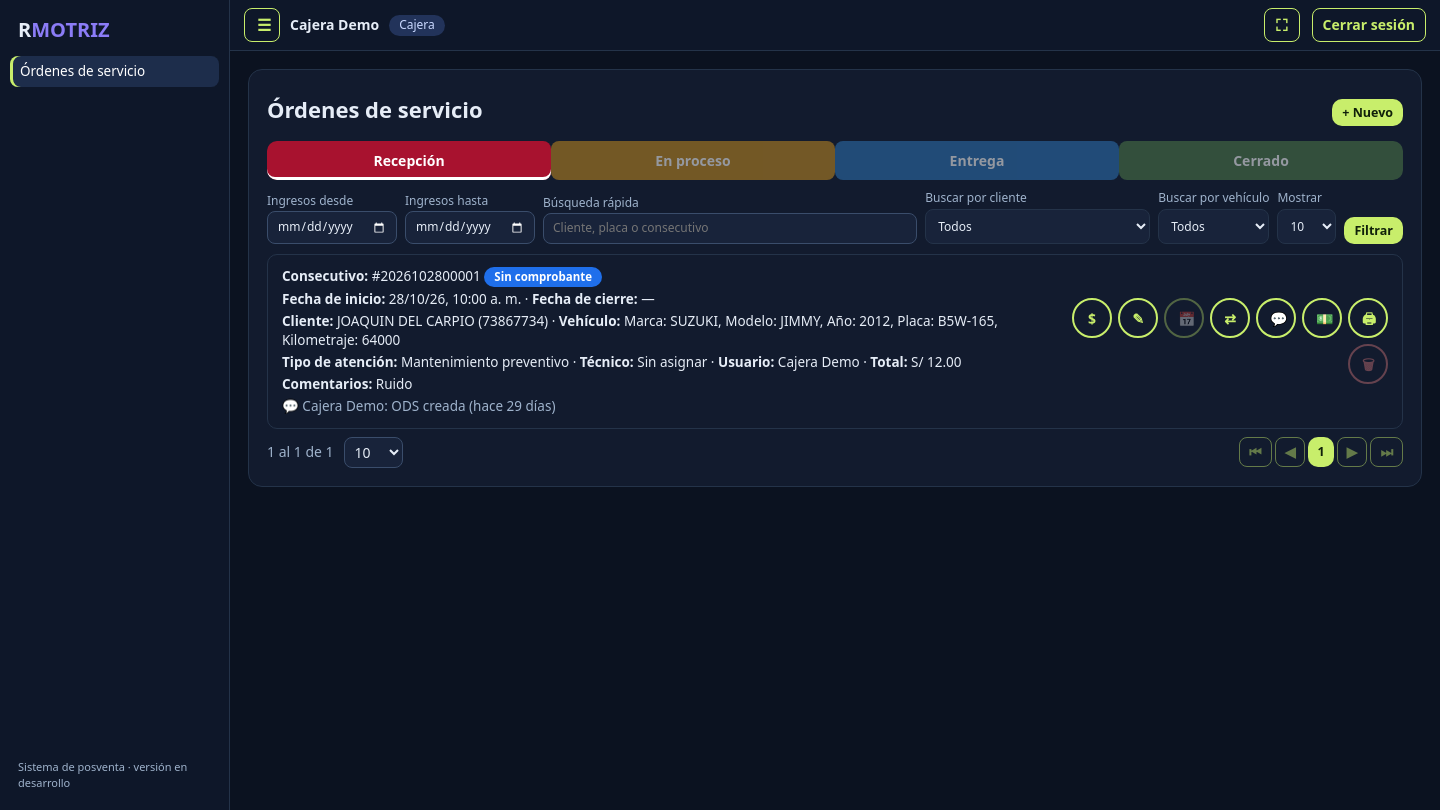
it: Estado: si la orden no cuadra con su comprobante, muestra el aviso del servidor y no cierra
The width and height of the screenshot is (1440, 810).
Click the button named "Estado de la orden": (1230, 318) [1210,298,1250,338]
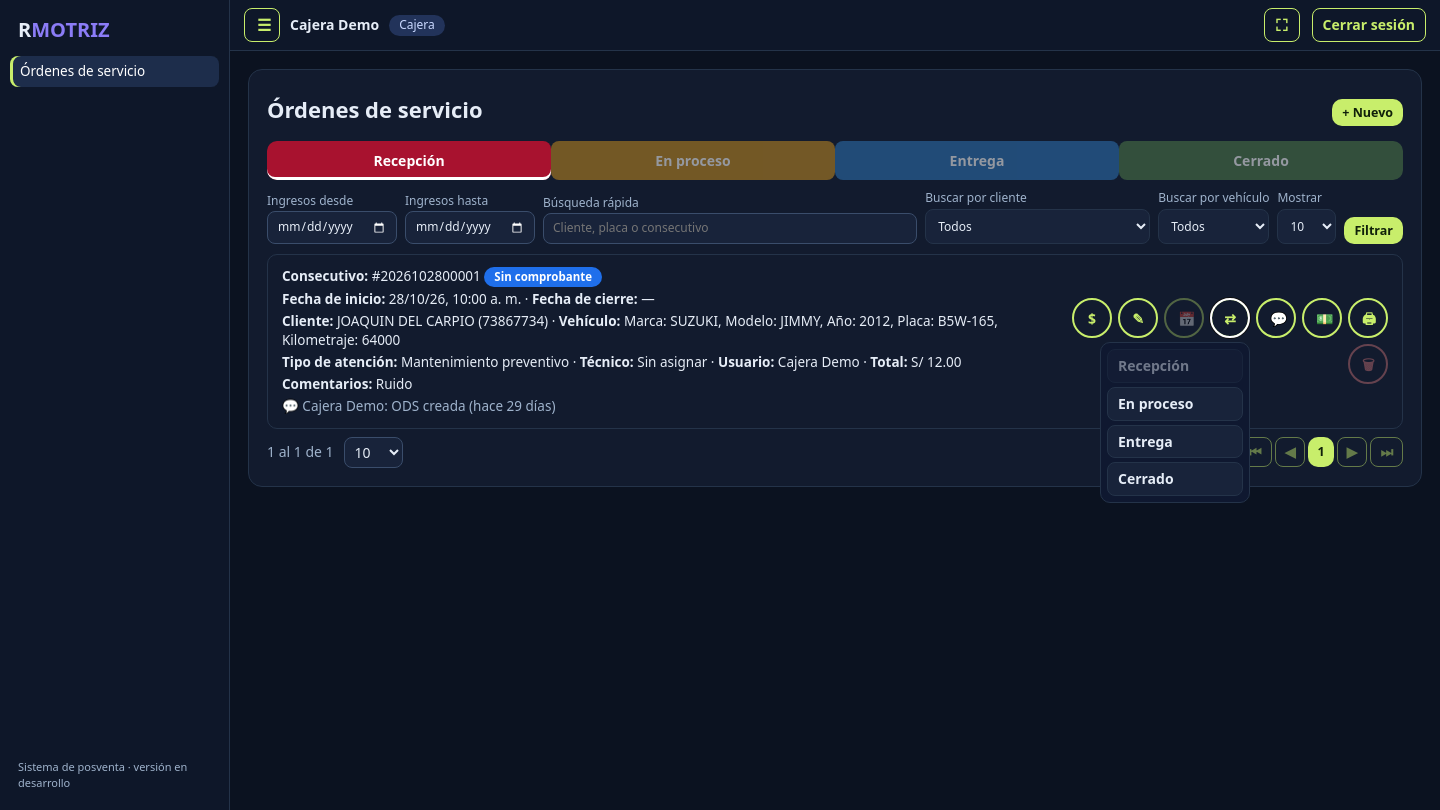
Click the menu item "Cerrado": (1175, 479) [1107,462,1243,496]
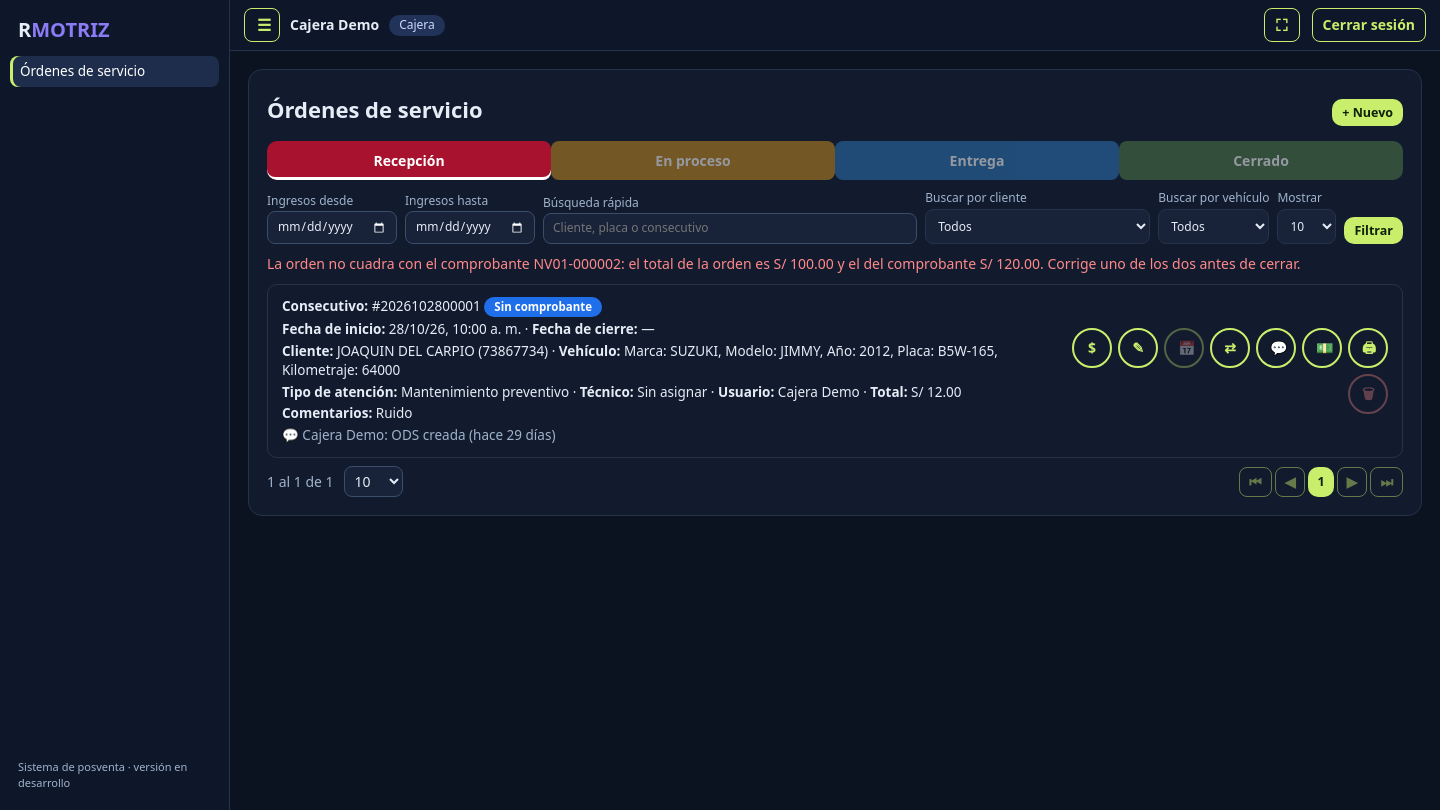
Expected: the message shows "no cuadra con el comprobante NV01-000002", [267,254,1300,273]
